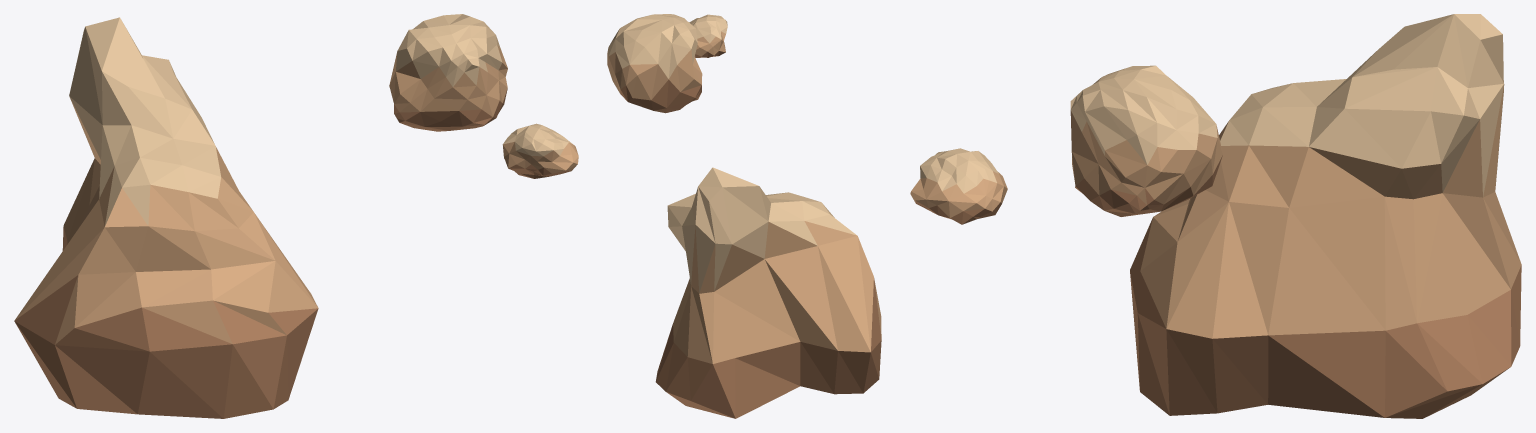
Rendered from canyon-2-2.glb.
3 renders of one model, left to right at view 1: azimuth 30°, elevation 25°; view 2: azimuth 150°, elevation 25°; view 3: azimuth 270°, elevation 25°, orthographic. The views are drawn at different scales.
Visible parts, largest first — view 1: canyon-2-2; view 2: canyon-2-2; view 3: canyon-2-2.
Part boxes in pixels (<box>): canyon-2-2: <box>14,14,578,418</box>; canyon-2-2: <box>607,14,881,418</box>; canyon-2-2: <box>910,14,1521,418</box>.
Bounding box in the file's own units: 36.56 × 30.57 × 39.39.
